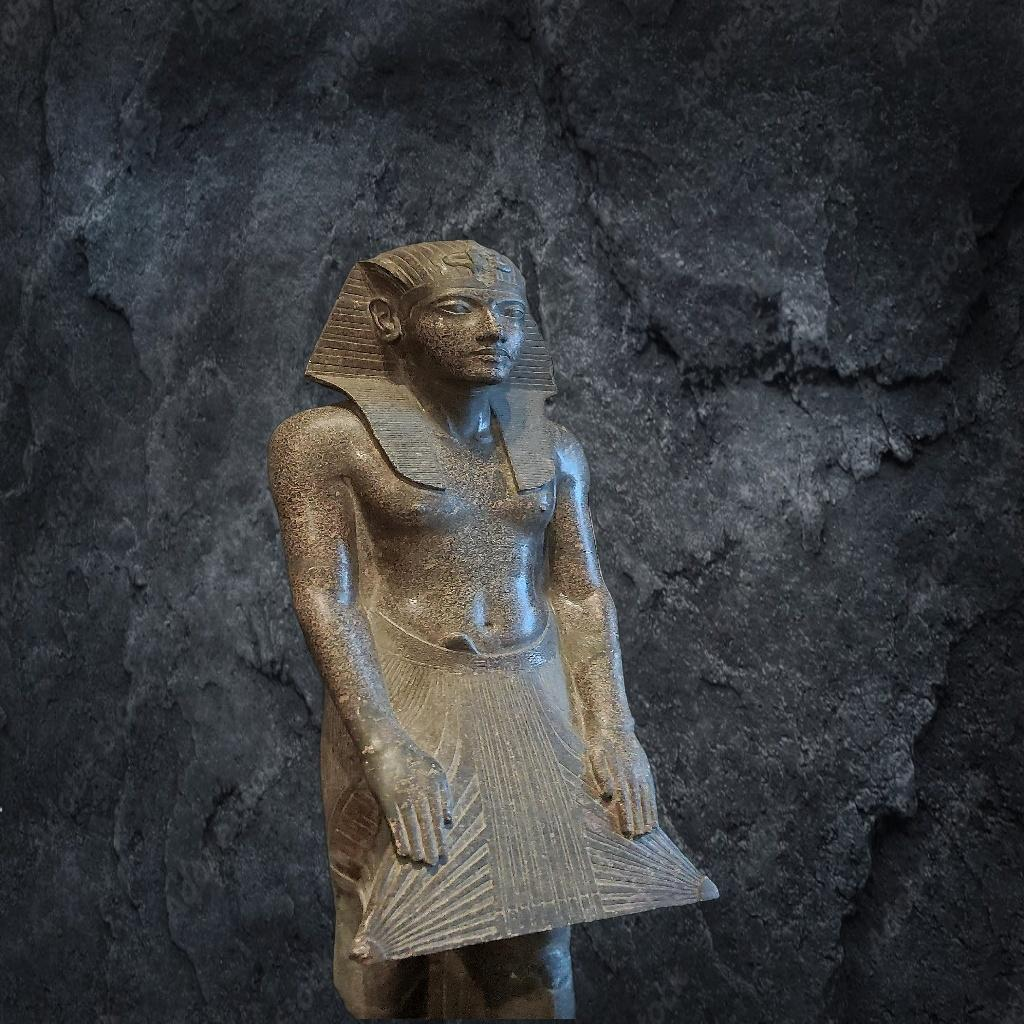Granite Statue of Tutankhamun: (264, 234, 724, 1018)
